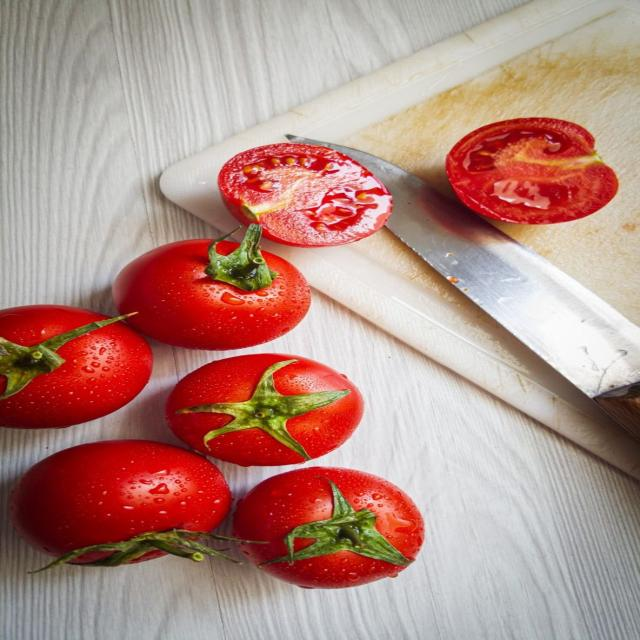tomato: (10, 440, 231, 565), (114, 225, 310, 349), (234, 467, 424, 588), (167, 354, 363, 466), (0, 305, 152, 428), (446, 118, 617, 224), (219, 143, 392, 246)
